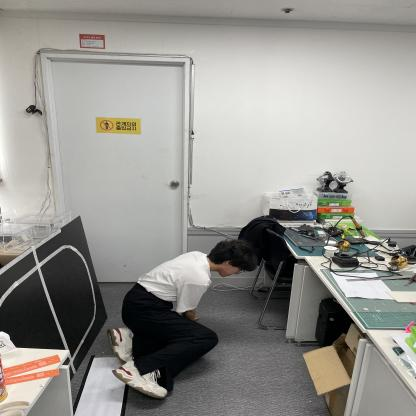fall: (101, 232, 257, 395)
